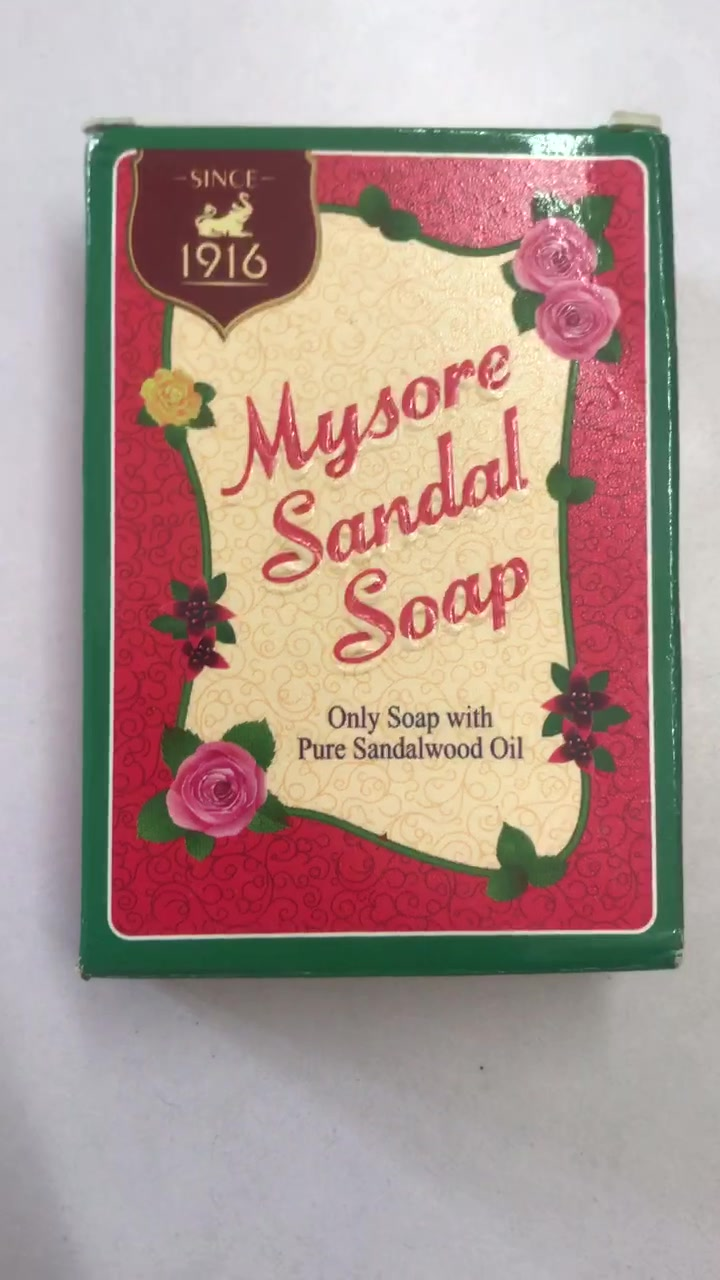mysore sandal soap: (81, 127, 683, 968)
